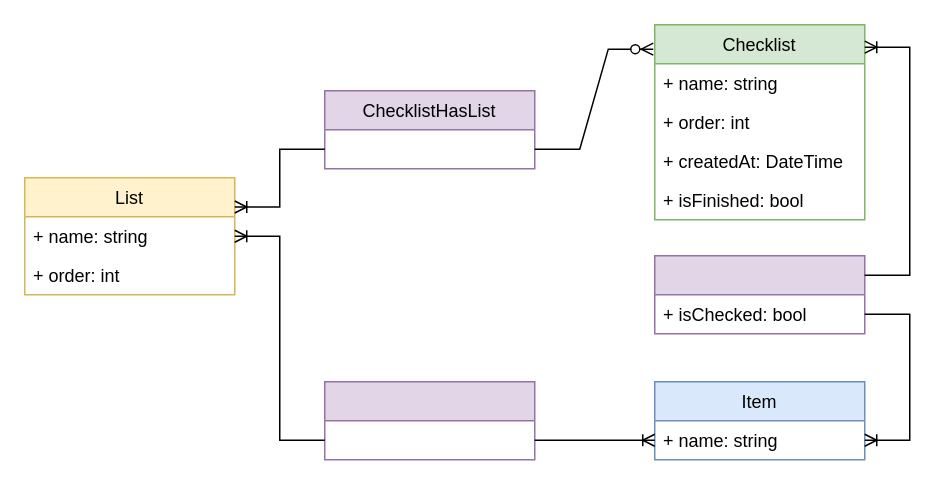
Some shapes in this 935 by 485 pixel diagram are drawn without their labels. Here are the shapes that lost their labels. From the top down, the box of each, then its label:
(653, 254, 865, 334): ChecklistHasItem
(323, 380, 535, 460): ListHasItem
